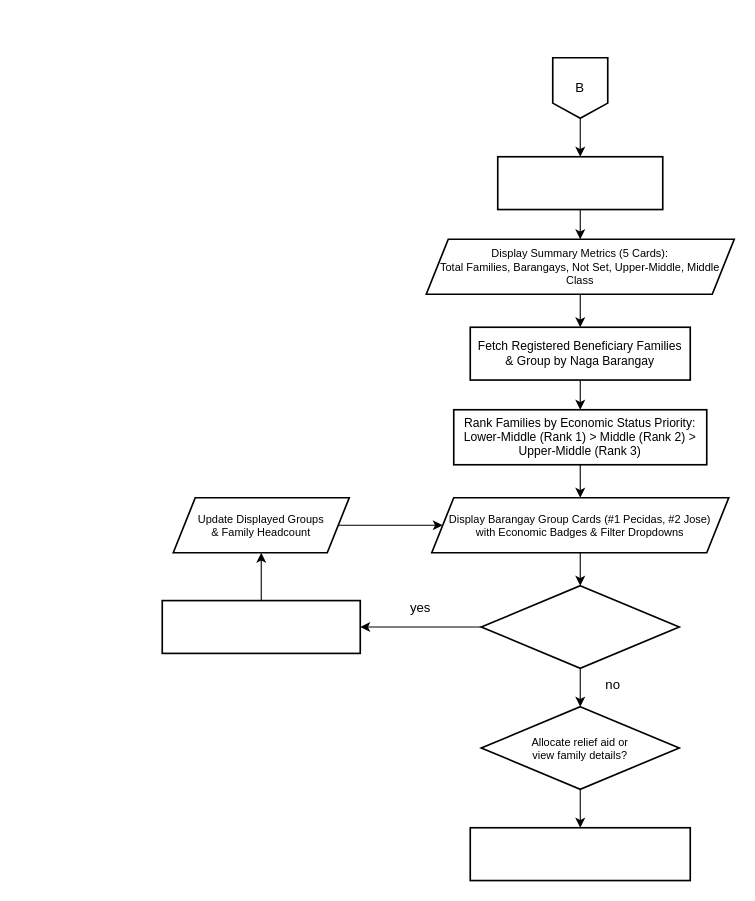
This 755x901 diagram has some shape labels left out. Each missing label, with the centre of its shape:
Filter Beneficiaries by Selected Barangay & Economic Status: the point at 261,626
Generate Targeted Relief Pack Plan Prioritizing High-Vulnerability Families: the point at 580,853
Priority Assessment Module Main Interface (/priority): the point at 579,182
Select Barangay or Economic filter?: the point at 580,626
